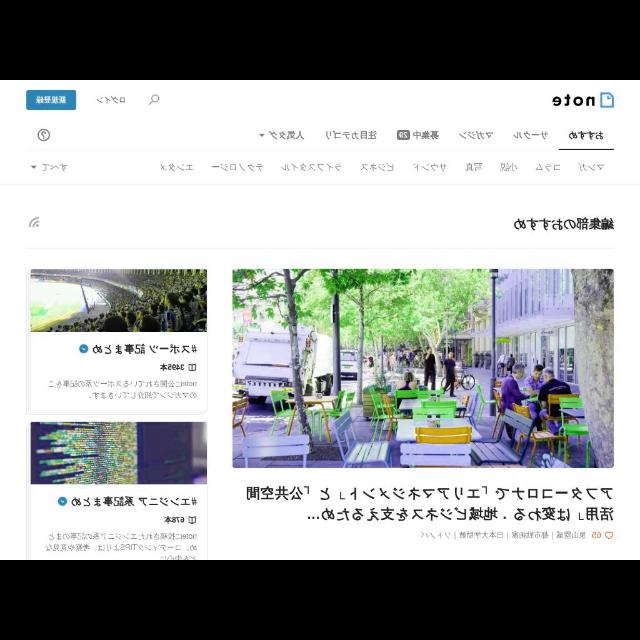icon: (148, 94, 160, 106), (29, 216, 38, 228), (39, 130, 49, 140), (606, 530, 614, 540), (188, 516, 196, 524), (188, 364, 196, 371), (258, 132, 266, 138), (29, 164, 36, 170)
image: (233, 268, 615, 468), (30, 270, 206, 332), (552, 94, 614, 108), (79, 344, 87, 354), (60, 497, 66, 507)
multitab: (1, 152, 639, 184)
spinner: (257, 130, 303, 142), (30, 161, 68, 173)
text: (245, 486, 613, 520), (44, 532, 196, 558), (48, 380, 196, 400), (70, 495, 198, 511), (513, 218, 615, 232), (92, 344, 198, 354), (280, 162, 342, 172), (326, 129, 376, 141), (213, 162, 263, 174), (568, 130, 604, 142), (460, 530, 502, 540), (412, 162, 448, 172), (359, 163, 395, 173), (158, 163, 194, 173), (459, 131, 493, 141), (269, 130, 303, 140), (576, 162, 604, 174), (512, 131, 550, 139), (512, 530, 548, 538), (413, 130, 439, 140), (41, 162, 67, 172), (94, 96, 126, 104), (34, 96, 66, 104), (555, 530, 585, 538), (164, 516, 186, 526), (535, 164, 561, 172), (160, 363, 184, 371), (499, 162, 518, 172), (421, 532, 452, 538), (464, 164, 482, 172), (592, 532, 600, 538)
textbutton: (24, 90, 76, 110)
toolbar: (1, 80, 639, 152)
